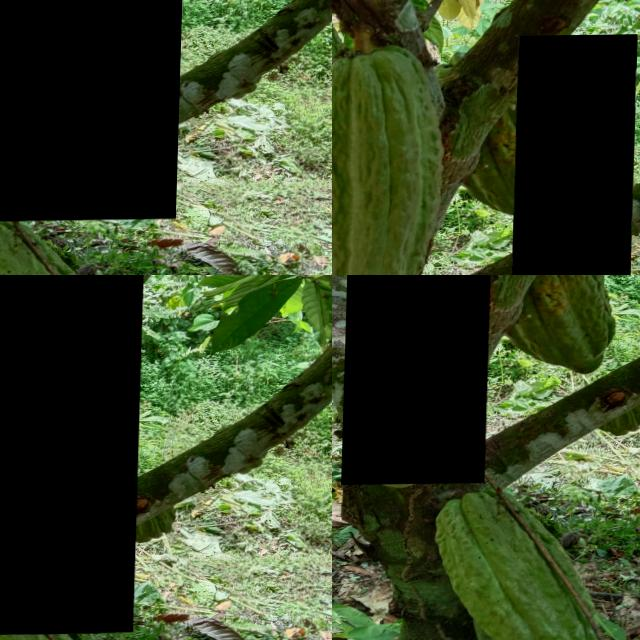Fitoftora: (499, 275, 622, 375)
Monilia: (607, 44, 640, 210)
Sana: (0, 275, 145, 637), (0, 0, 184, 222), (344, 275, 493, 484), (514, 36, 638, 275), (439, 486, 606, 640)
